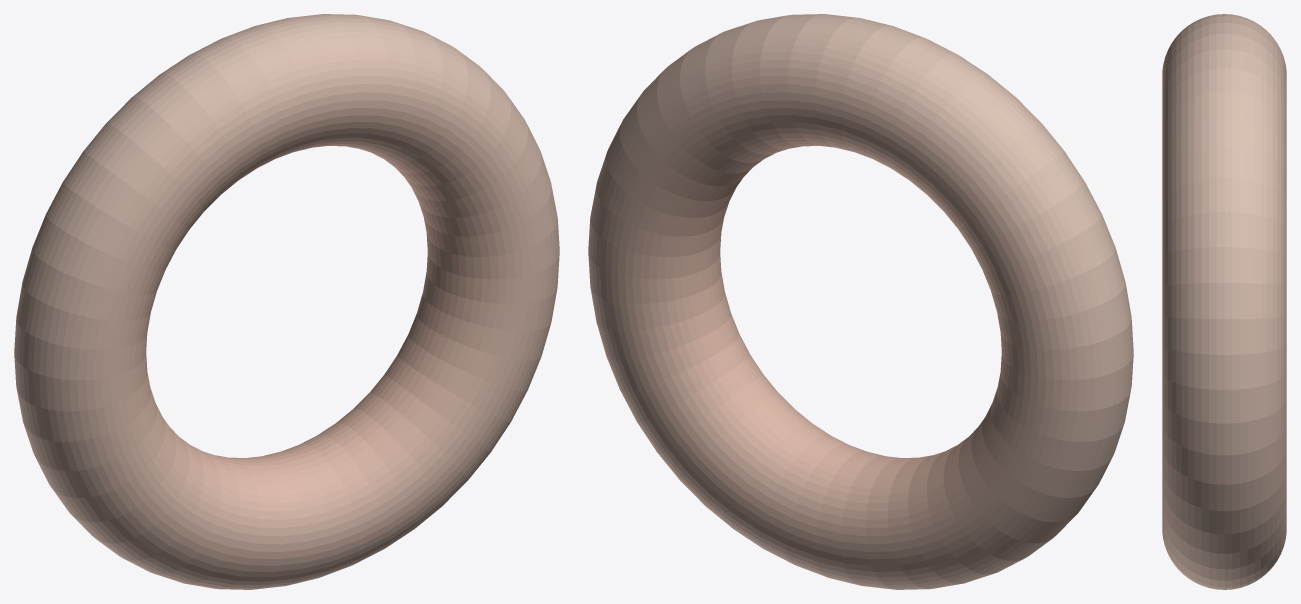
The picture shows the model from 3 angles, left to right: view 1: azimuth 30°, elevation 25°; view 2: azimuth 150°, elevation 25°; view 3: azimuth 270°, elevation 25°; orthographic projection. The views are drawn at different scales.
Visible parts, largest first — view 1: world; view 2: world; view 3: world.
Part boxes in pixels (x1,y1,x2,y2): world: (14,14,559,589); world: (588,14,1133,589); world: (1162,14,1286,589).
Bounding box in the file's own units: 28.93 × 28.88 × 6.25.
